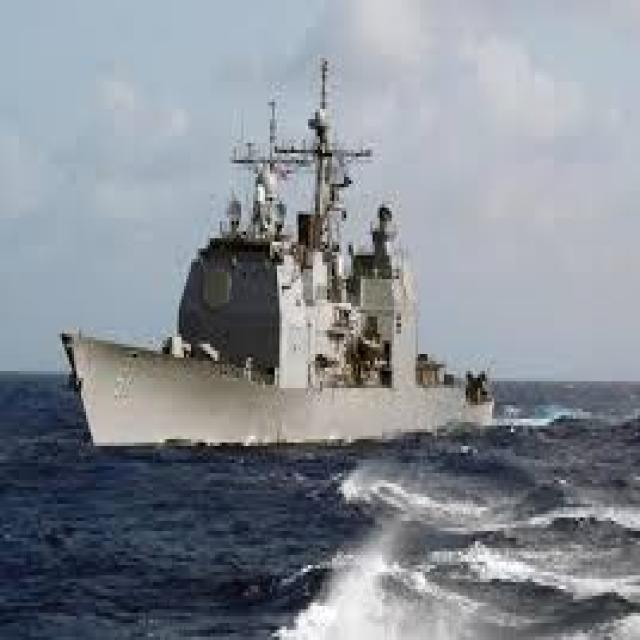navalvessels: (62, 39, 500, 448)
